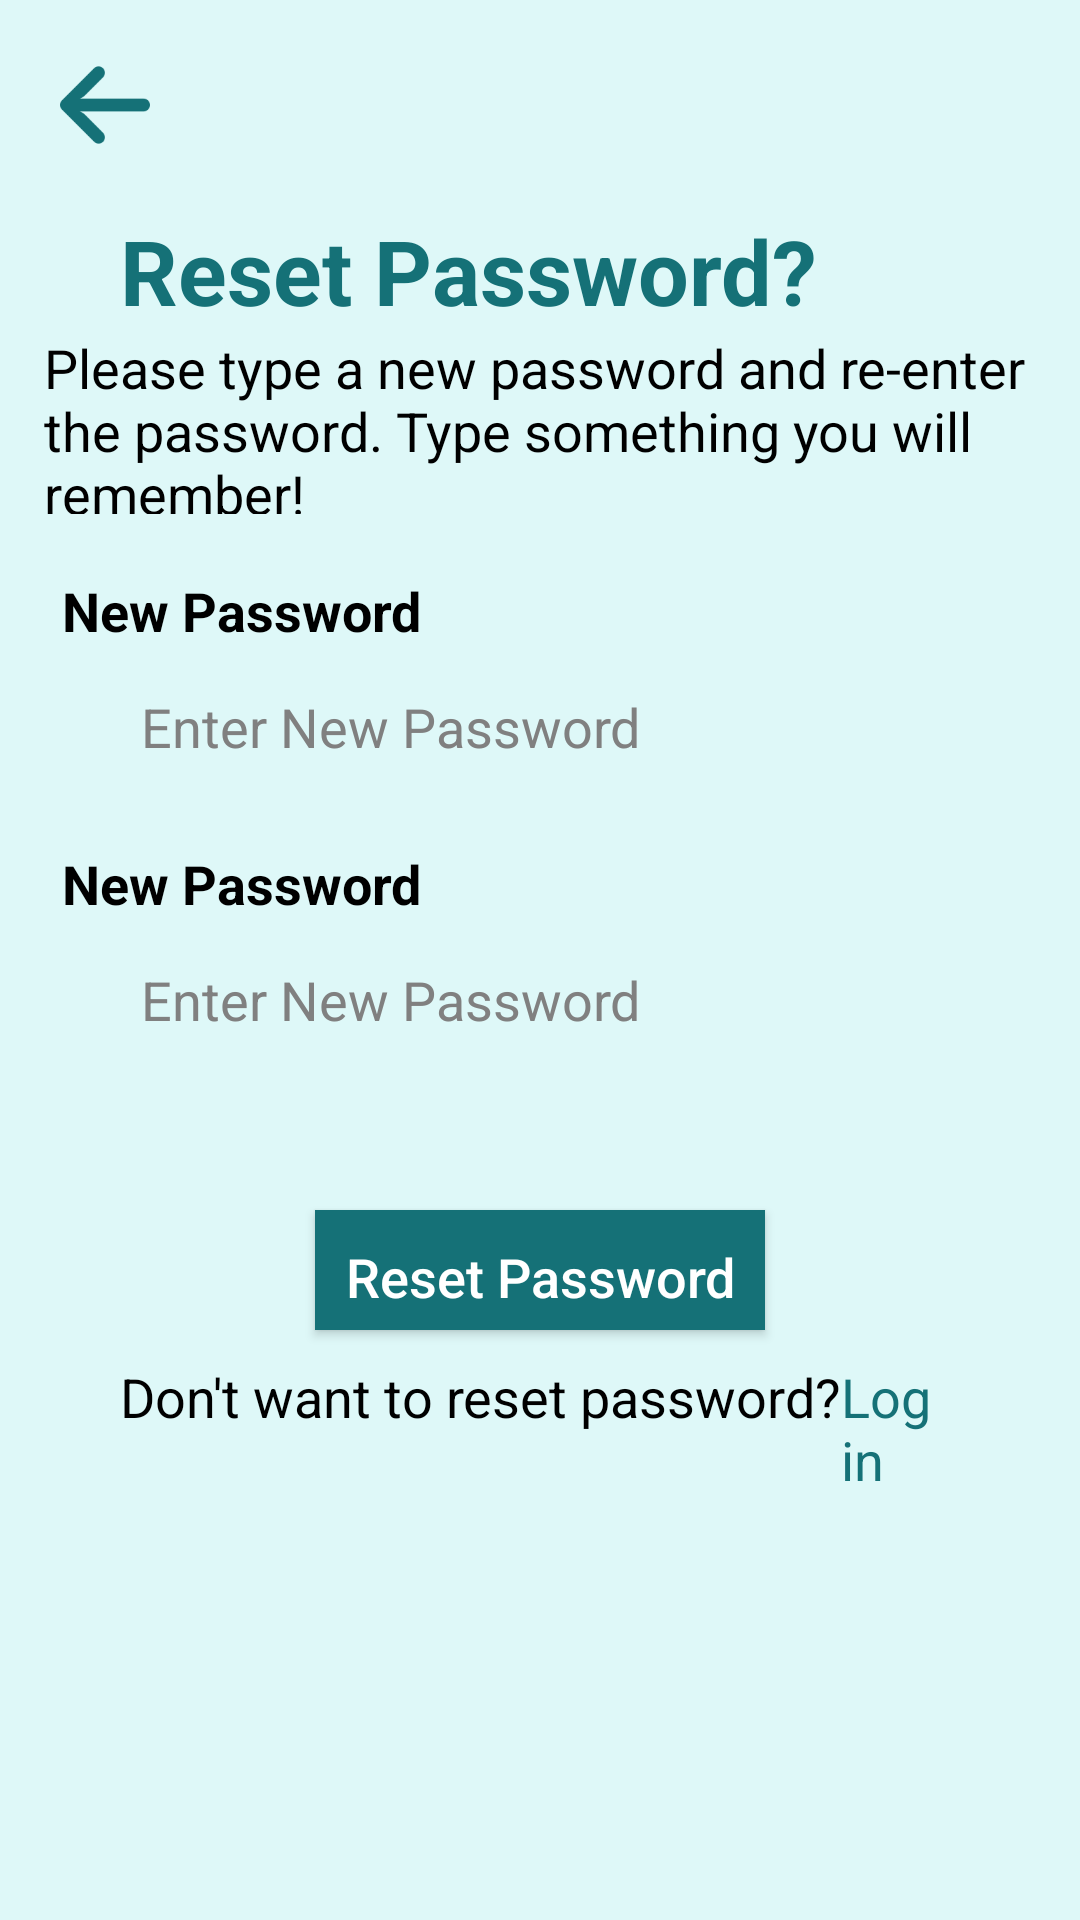

Point at icon controls on the screen. Image size 1080x1920, points as (x=x, y=y).
arrow: (x=105, y=105)
